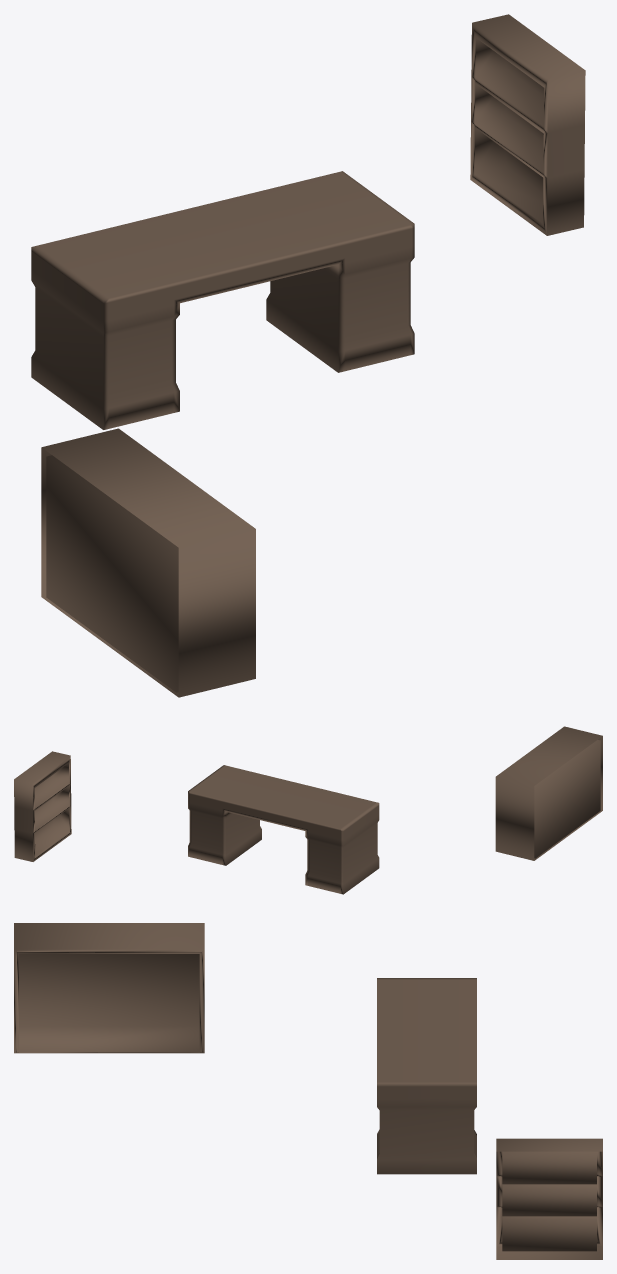
Rendered from WoodFurniture.fbx.
3 views of the same model, one above another, from view 1: azimuth 30°, elevation 25°; view 2: azimuth 150°, elevation 25°; view 3: azimuth 270°, elevation 25° (orthographic). The views are drawn at different scales.
Parts seen in each view (by area): view 1: Desk, pCube2, Bookshelf; view 2: Desk, pCube2, Bookshelf; view 3: pCube2, Desk, Bookshelf.
Boxes of the visible parts, x1=… form: Desk: x1=31, y1=171, x2=414, y2=429; pCube2: x1=41, y1=428, x2=255, y2=697; Bookshelf: x1=470, y1=14, x2=585, y2=235; Desk: x1=188, y1=765, x2=379, y2=894; pCube2: x1=495, y1=726, x2=602, y2=860; Bookshelf: x1=14, y1=751, x2=71, y2=861; pCube2: x1=14, y1=923, x2=204, y2=1053; Desk: x1=377, y1=978, x2=476, y2=1174; Bookshelf: x1=496, y1=1138, x2=602, y2=1259.
Bounding box in the file's own units: 6.05 × 1.45 × 5.89.
